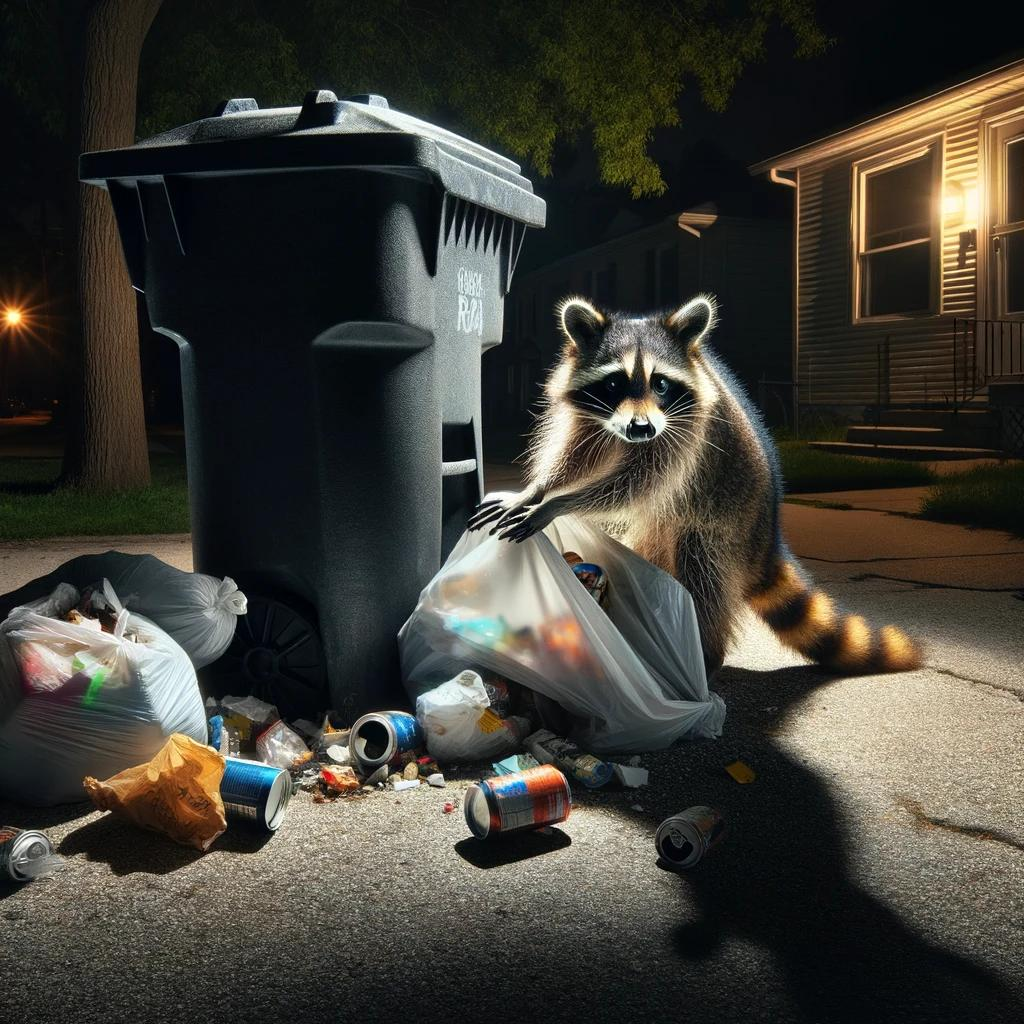raccoon: (518, 277, 935, 683)
